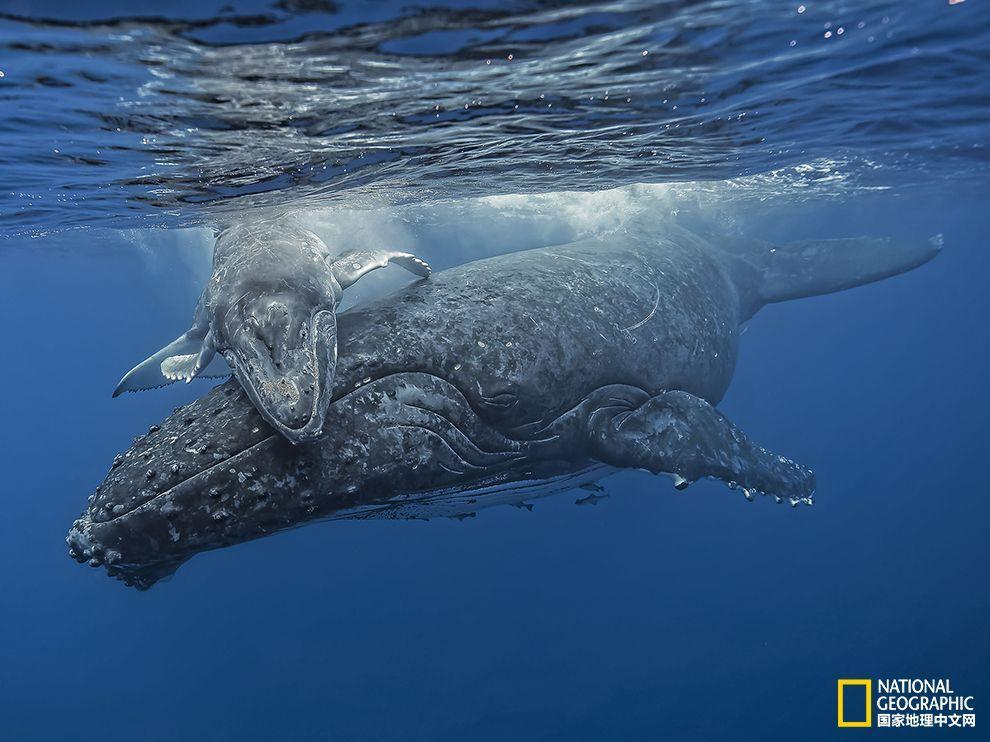fish: (46, 209, 952, 592), (161, 173, 421, 448)
